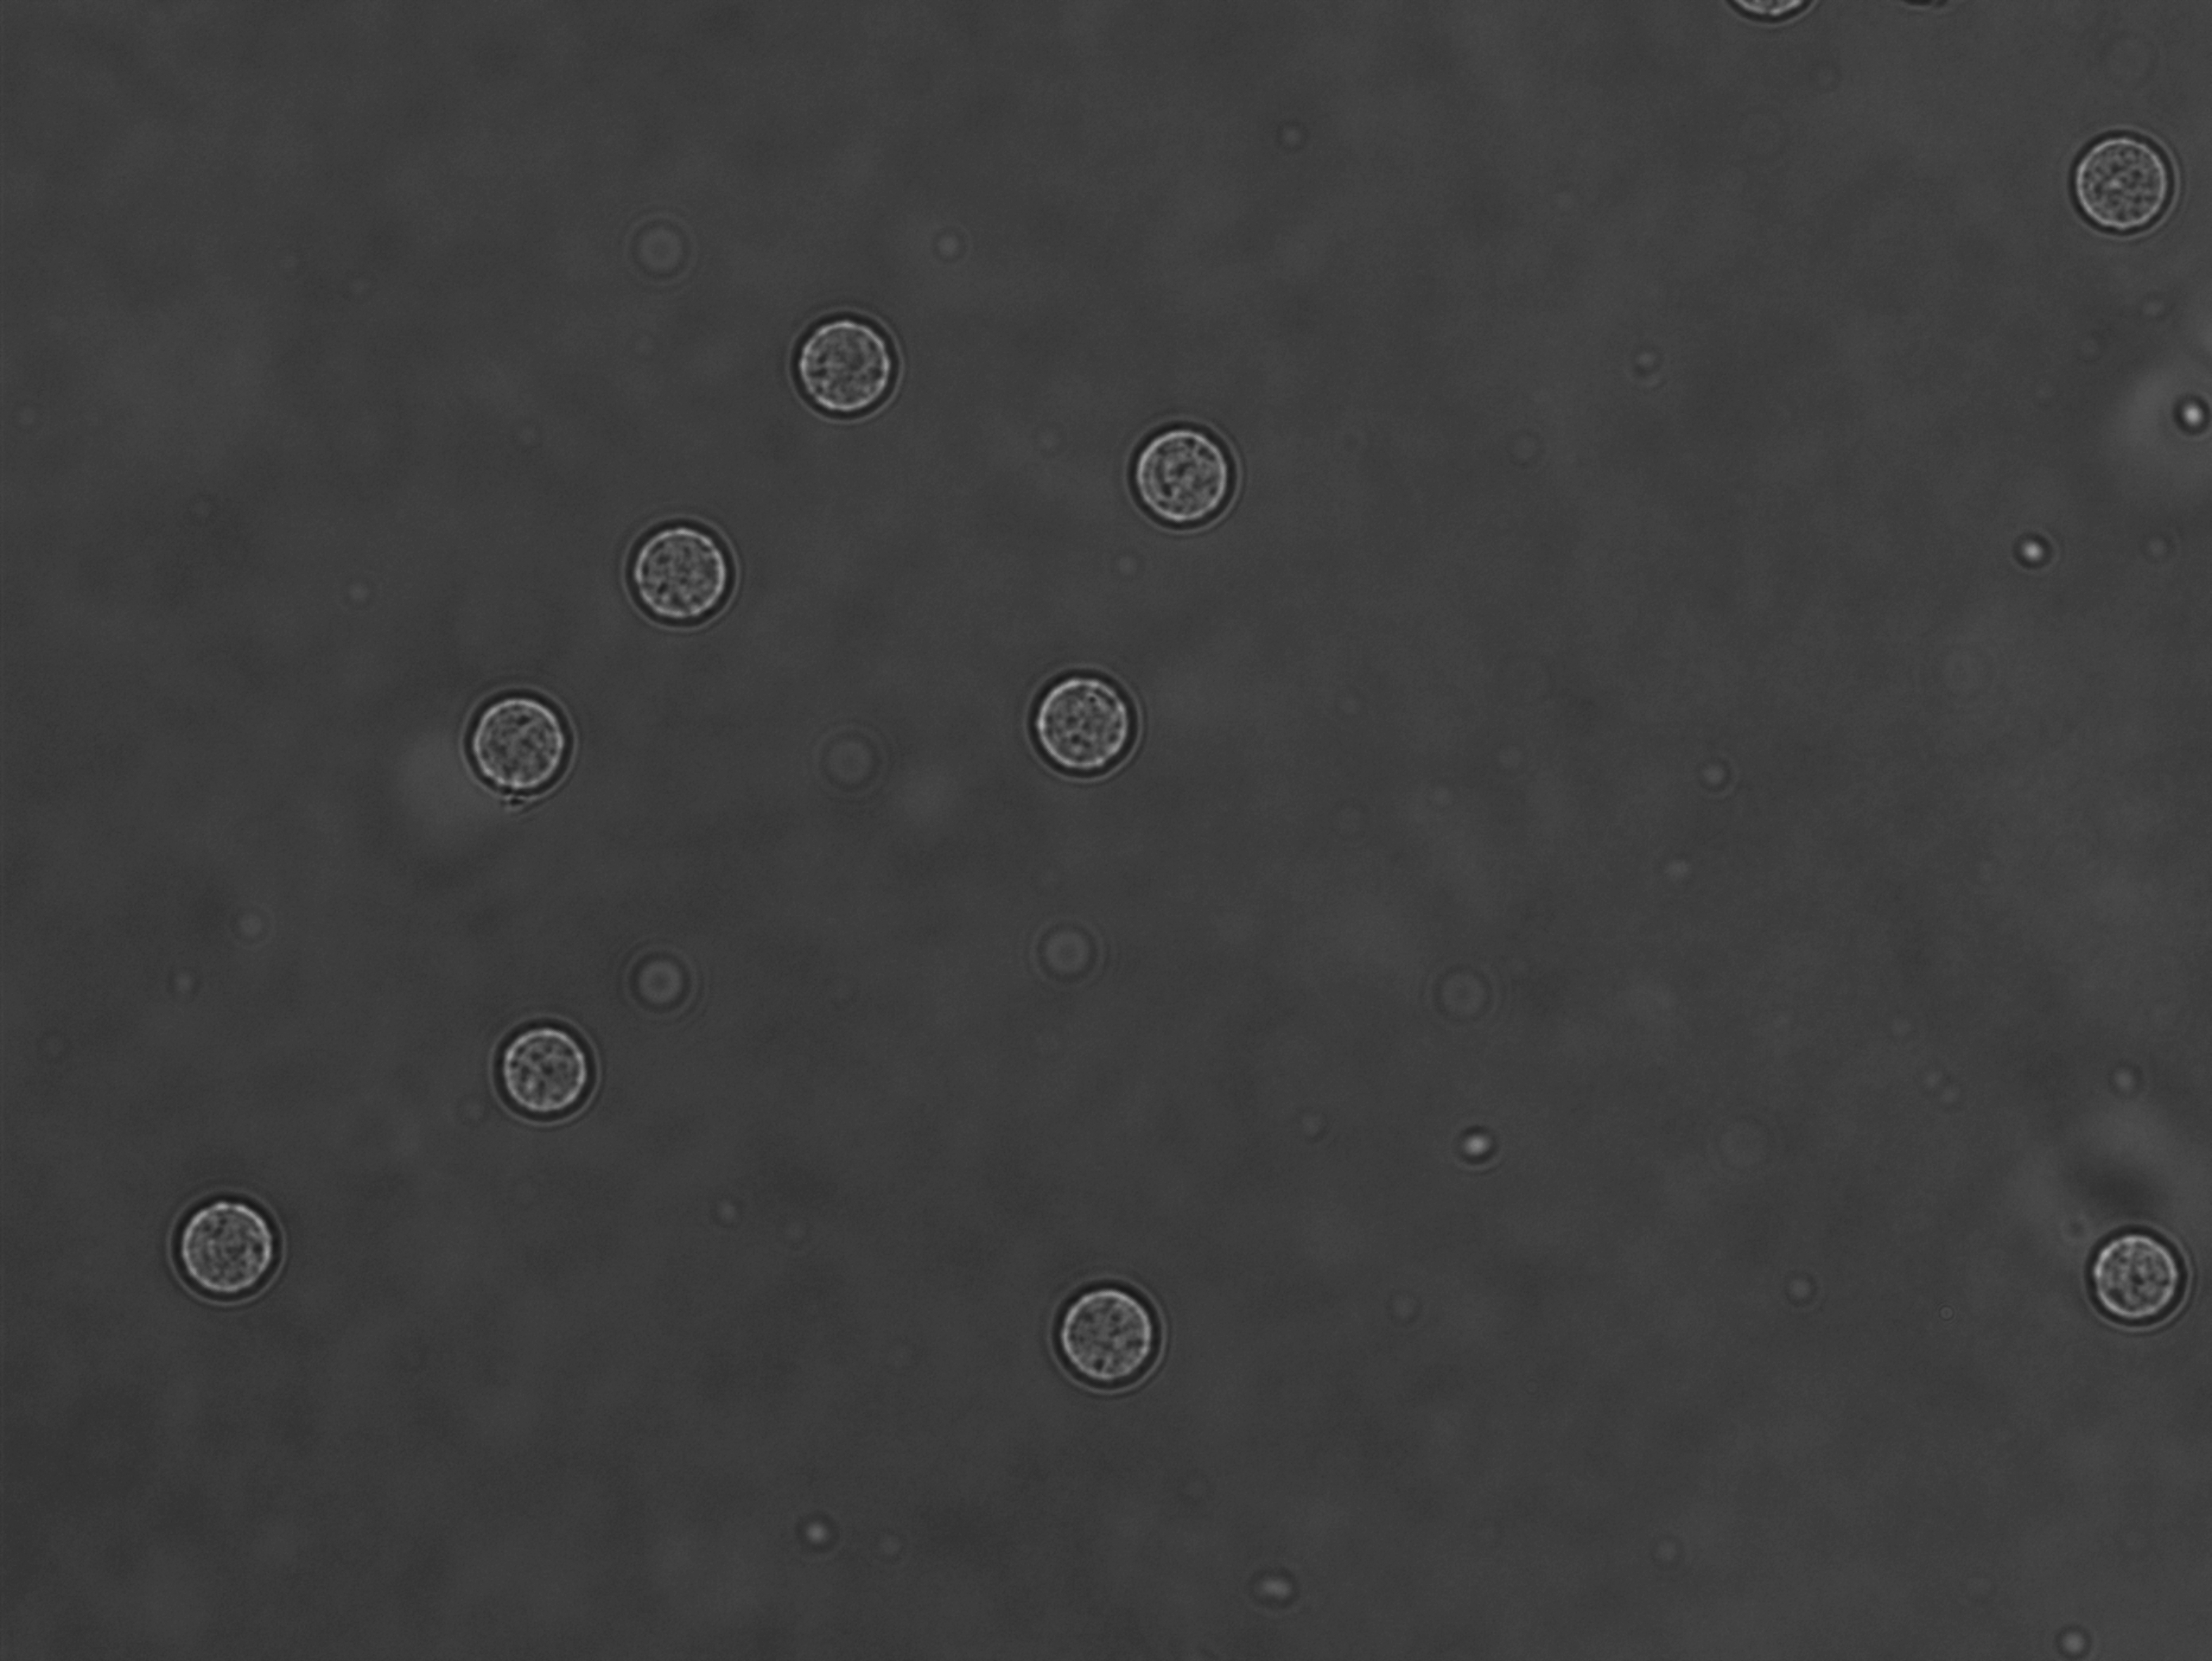depth:0: (141, 1159, 314, 1314), (1036, 1256, 1190, 1403), (611, 515, 780, 647), (483, 1005, 632, 1155), (1116, 403, 1261, 551), (455, 658, 584, 813), (2071, 1200, 2205, 1343), (782, 297, 919, 434), (1014, 646, 1150, 785), (2055, 117, 2196, 249)
